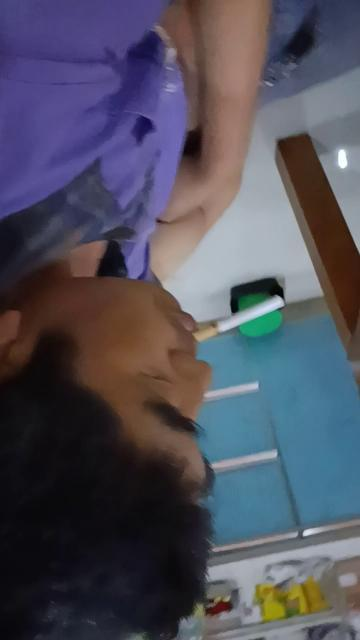Smoking: (193, 295, 285, 343)
